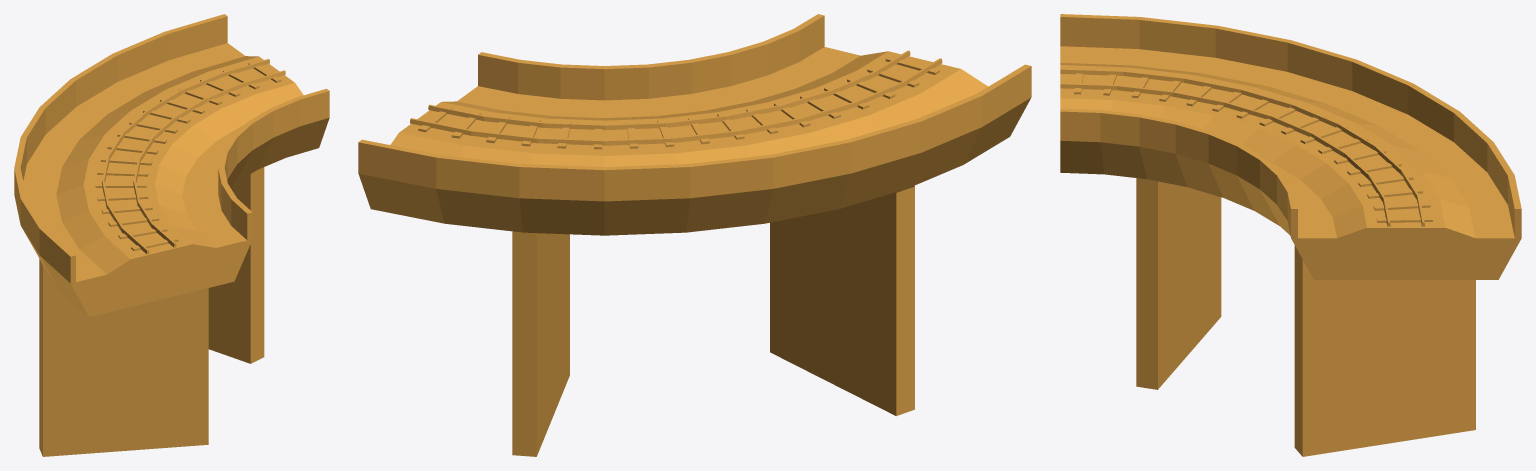
The model's file is bridge-rail-curve.glb.
The picture shows the model from 3 angles, left to right: view 1: azimuth 30°, elevation 25°; view 2: azimuth 150°, elevation 25°; view 3: azimuth 270°, elevation 25°; orthographic projection. The views are drawn at different scales.
Parts seen in each view (by area): view 1: bridge-rail-curve; view 2: bridge-rail-curve; view 3: bridge-rail-curve.
Boxes of the visible parts, x1,y1,x2,y2 form: bridge-rail-curve: (14,14,329,456); bridge-rail-curve: (358,14,1031,456); bridge-rail-curve: (1060,14,1521,456).
Size of the model in its own units: 20.01 by 13.4 by 20.
